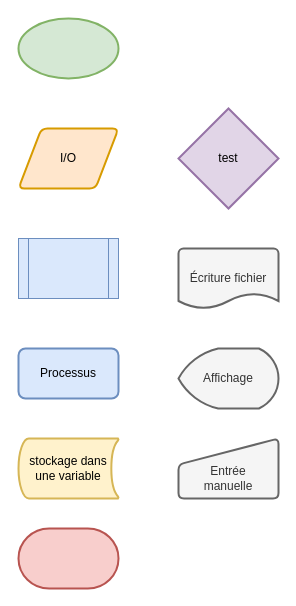
Some shapes in this 296 by 606 pixel diagram are drawn without their labels. The centre of each missing label's shape, as x and y in pixels:
end: pixel 68 558
main: pixel 68 48
sous-programme: pixel 68 268
